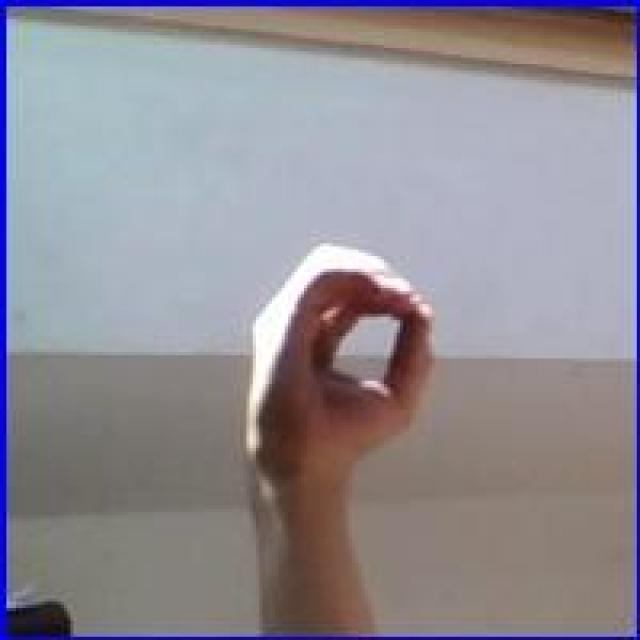O: (238, 238, 444, 469)
